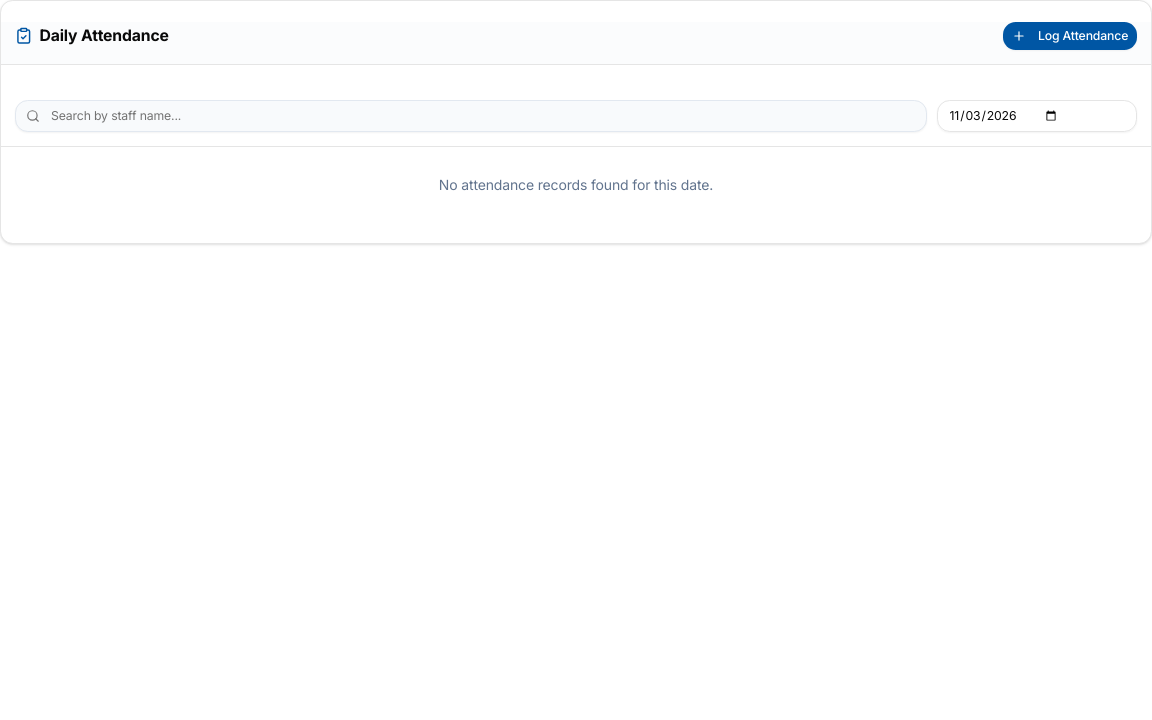
HRAttendanceSubtab › hides the check-in/out time fields when logging an absence
The width and height of the screenshot is (1152, 720).
Click the button "Log Attendance" at (1070, 36), box top-left (1003, 22), bottom-right (1137, 50)
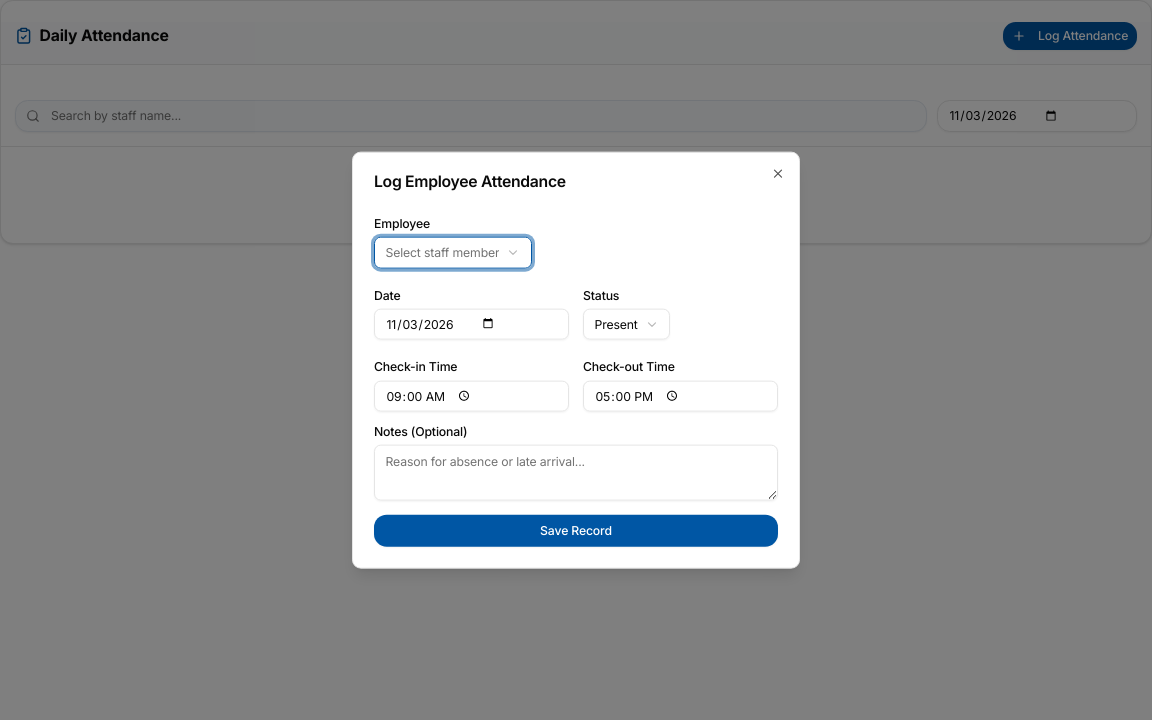
Result: the text "Check-in Time" is shown at top-left (374, 359), bottom-right (457, 374)
Note: The status select is the second combobox (after the staff select).
Click the dropdown labelled "Present" at (627, 324), box top-left (583, 308), bottom-right (670, 340)
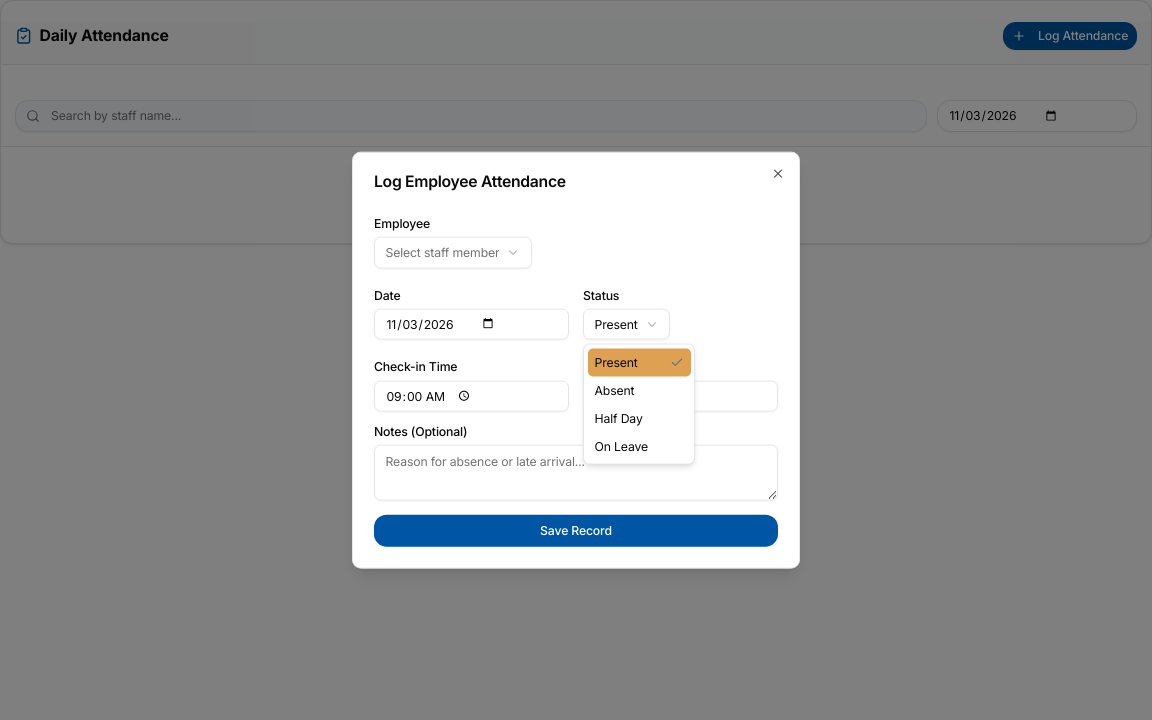
Click the option "Absent" at (614, 390), box top-left (594, 382), bottom-right (634, 397)
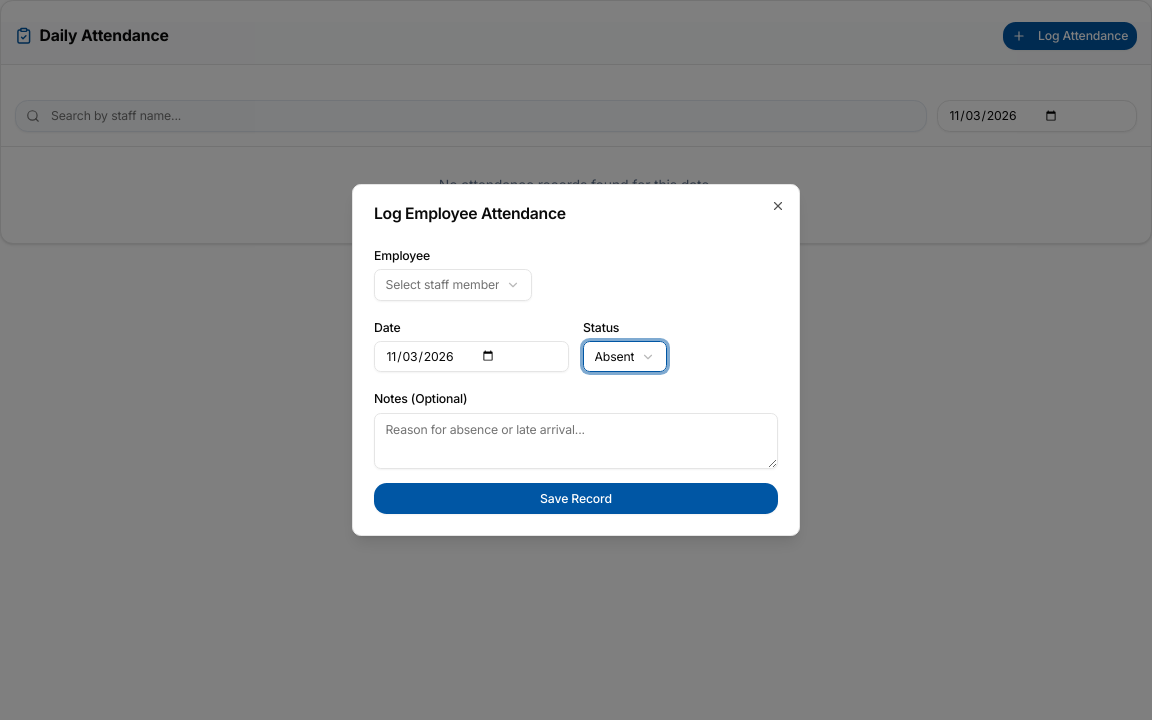
Result: the text "Check-in Time" is gone
Result: the text "Check-out Time" is gone
